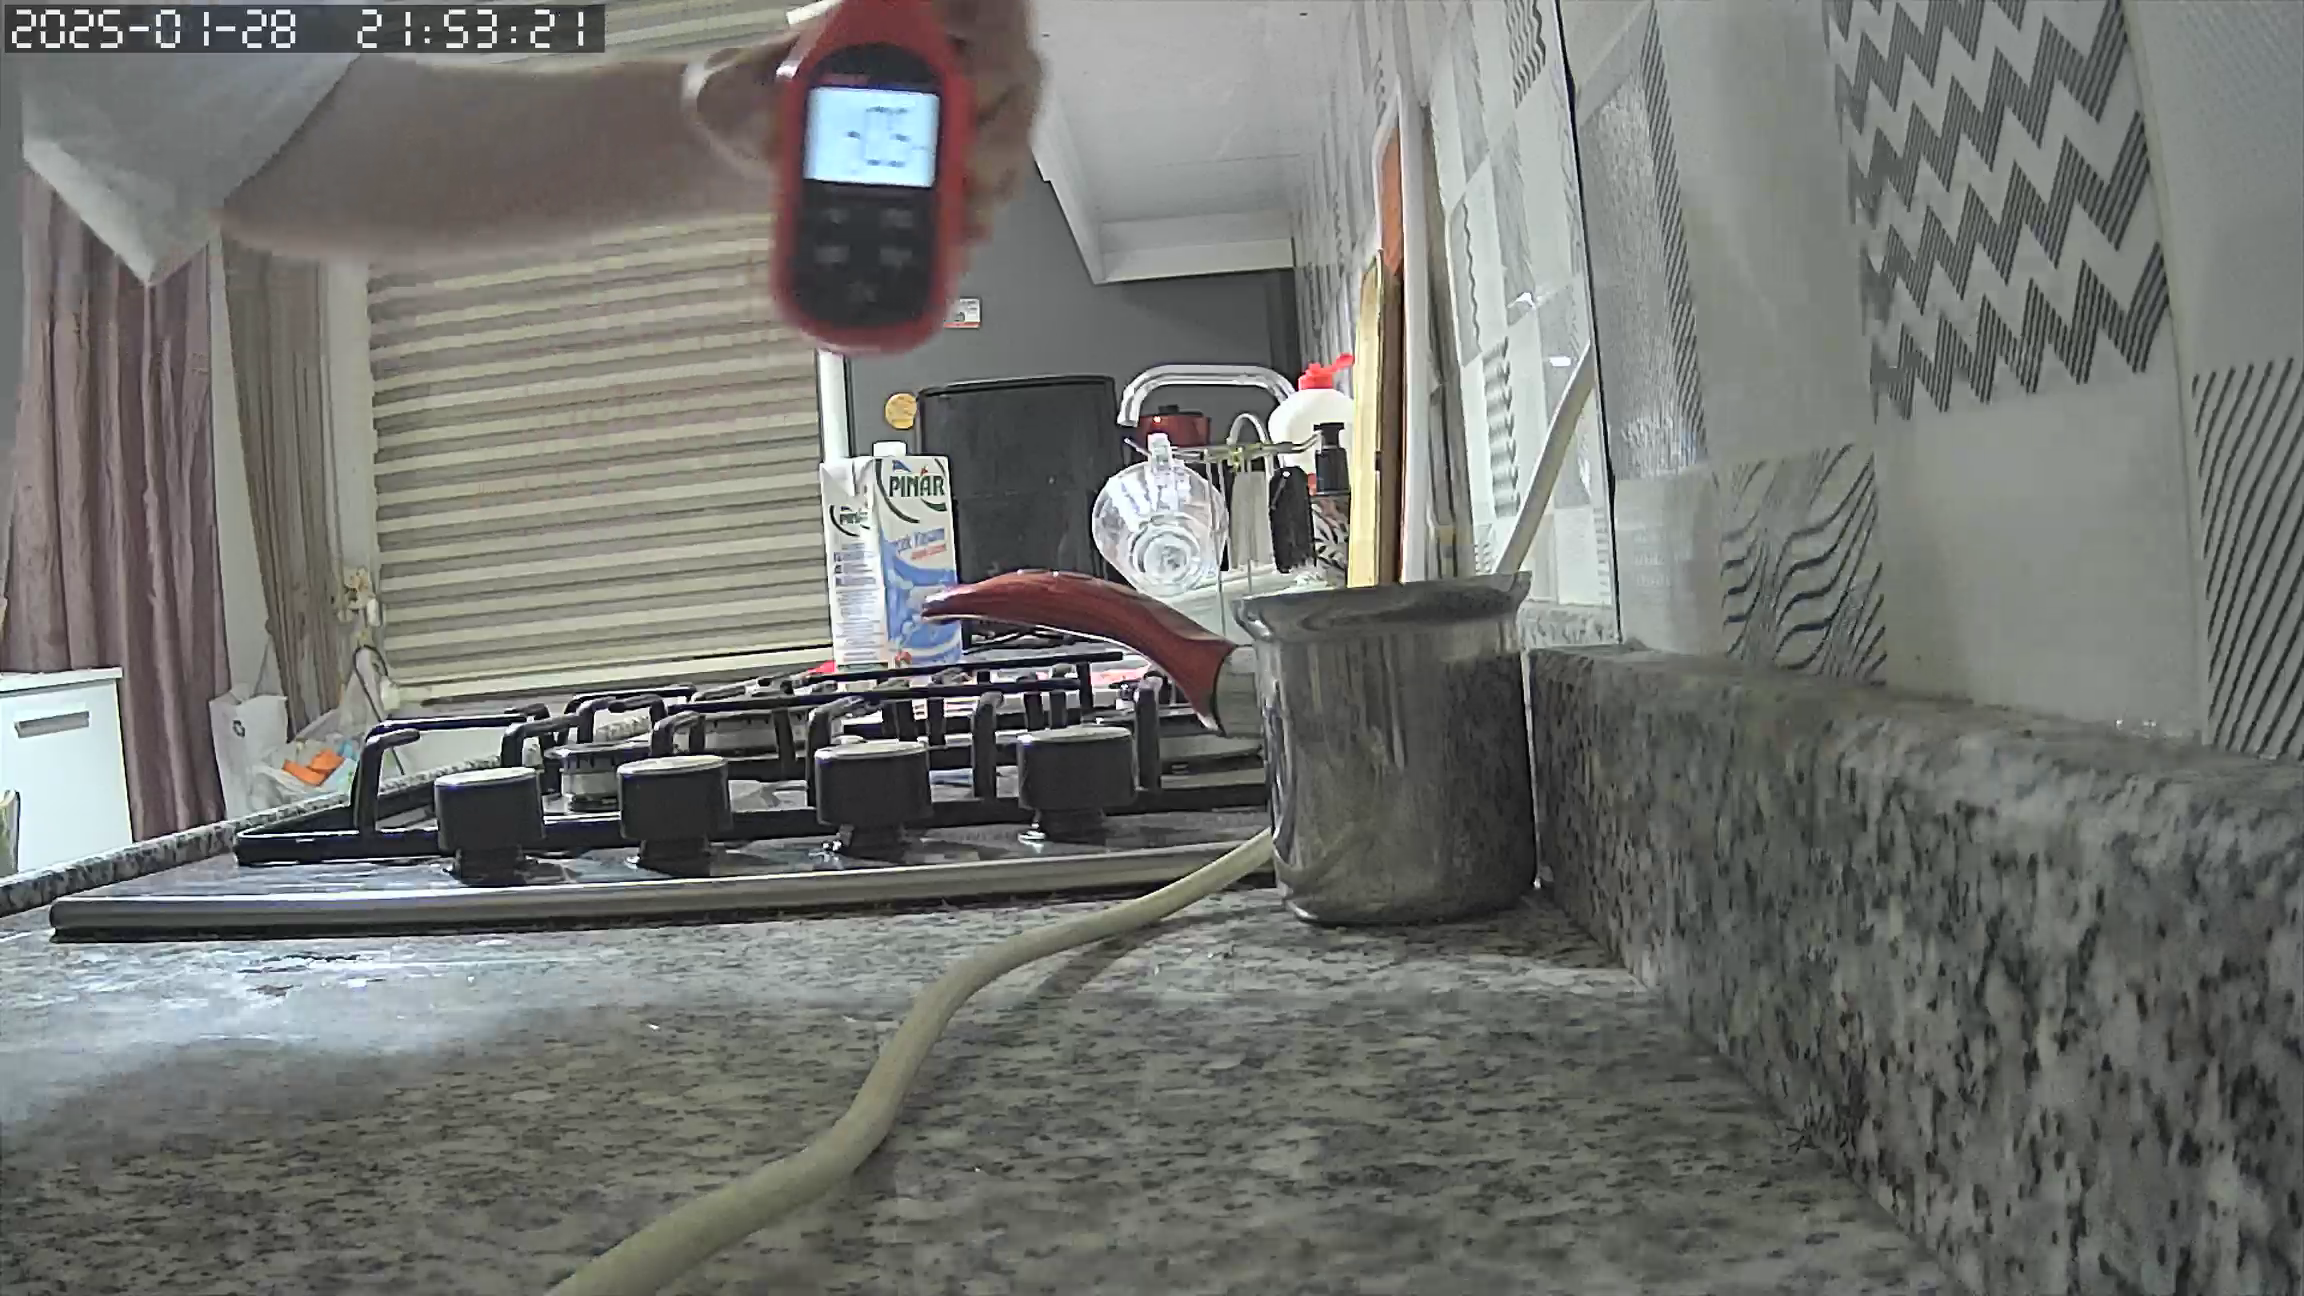screen: (801, 82, 942, 193)
